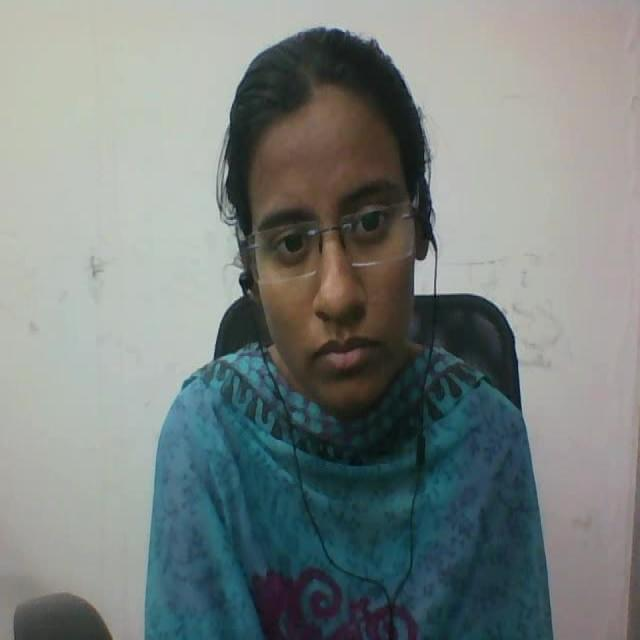Engaged: (188, 9, 481, 461)
